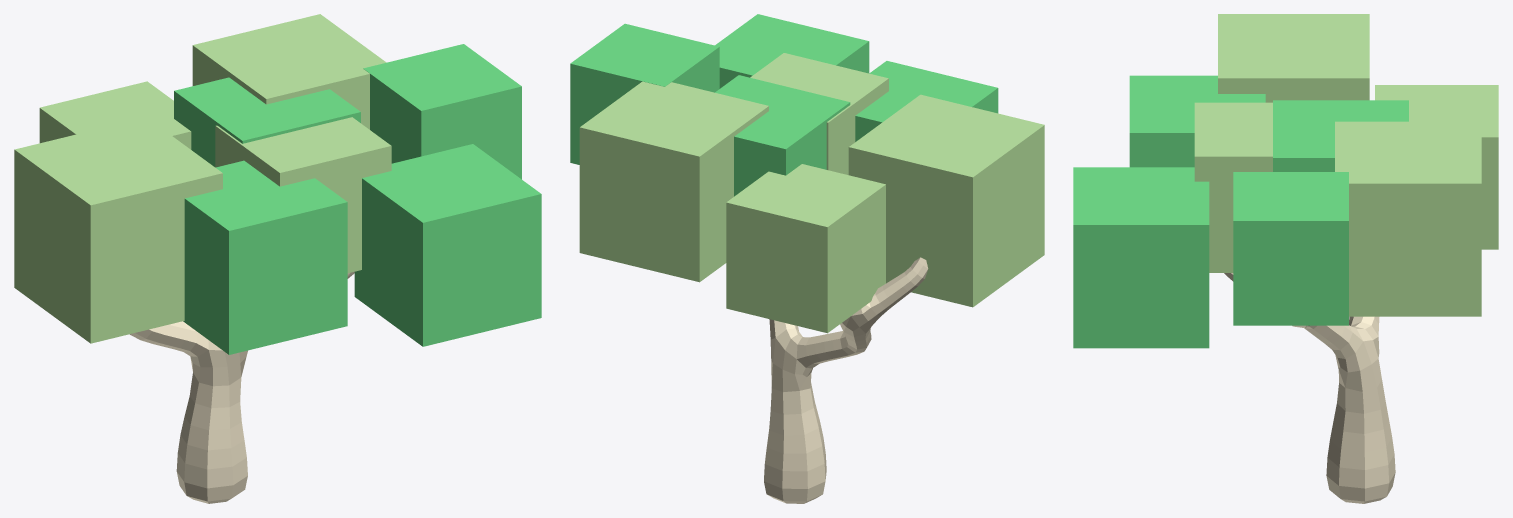
The model's file is Redgumtree0.glb.
The picture shows the model from 3 angles, left to right: view 1: azimuth 30°, elevation 25°; view 2: azimuth 150°, elevation 25°; view 3: azimuth 270°, elevation 25°; orthographic projection. The views are drawn at different scales.
Visible parts, largest first — view 1: 立方体.001, 平面; view 2: 平面, 立方体.001; view 3: 平面, 立方体.001.
Part boxes in pixels (x1=…): 立方体.001: x1=174, y1=44, x2=541, y2=354; 平面: x1=14, y1=14, x2=391, y2=503; 平面: x1=579, y1=53, x2=1044, y2=503; 立方体.001: x1=570, y1=14, x2=998, y2=196; 平面: x1=1194, y1=14, x2=1498, y2=503; 立方体.001: x1=1073, y1=75, x2=1408, y2=348.
Size of the model in its own units: 4.96 by 4.27 by 4.19.
